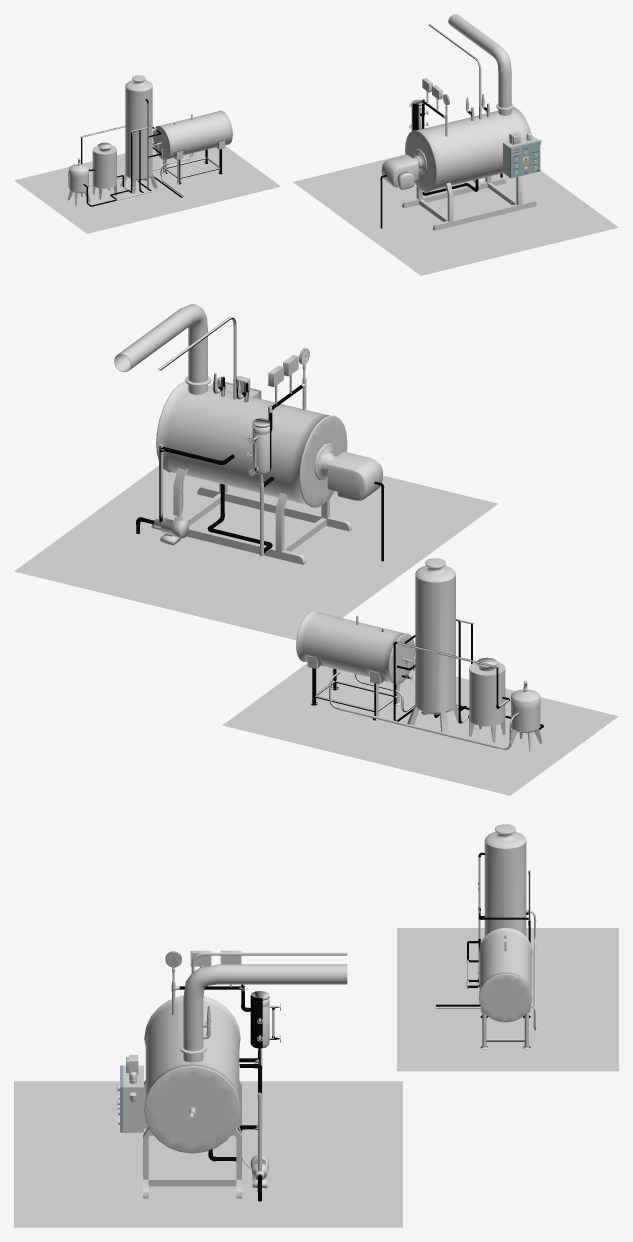
The model's file is FinalAhoraSiDeVerdad.fbx.
3 renders of one model, top to bottom at view 1: azimuth 30°, elevation 25°; view 2: azimuth 150°, elevation 25°; view 3: azimuth 270°, elevation 25°, orthographic. The views are drawn at different scales.
Visible parts, largest first — view 1: Plane001, Plane002, OilTank002, Object044, OilTank007, base01, Object002, Box015, Object012, OilTank009, Object048, Object059 (+3 smaller); view 2: Plane001, Plane002, OilTank002, Object044, OilTank007, base01, Object012, Object002, Box015, OilTank009, OilTank010, Object048 (+3 smaller); view 3: Plane001, Plane002, OilTank002, Object002, OilTank007, Object044, Object012, base01, Box003, Object054, Object048, Object053 (+1 smaller).
Boxes of the visible parts, x1,y1,x2,y2 form: Plane001: (293, 154, 618, 275); Plane002: (14, 146, 280, 233); OilTank002: (405, 107, 531, 191); Object044: (120, 75, 157, 193); OilTank007: (152, 110, 232, 160); base01: (402, 176, 536, 230); Object002: (448, 14, 513, 115); Box015: (381, 149, 426, 189); Object012: (380, 24, 502, 228); OilTank009: (92, 142, 116, 199); Object048: (80, 99, 182, 206); Object059: (509, 140, 540, 178); Plane001: (14, 465, 497, 640); Plane002: (222, 663, 618, 795); OilTank002: (156, 381, 347, 507); Object044: (407, 558, 463, 733); OilTank007: (296, 611, 415, 684); base01: (151, 468, 351, 564); Object012: (136, 316, 384, 561); Object002: (114, 304, 211, 394); Box015: (314, 443, 382, 500); OilTank009: (469, 657, 505, 742); OilTank010: (509, 680, 542, 751); Object048: (393, 618, 543, 729); Plane001: (14, 1081, 402, 1227); Plane002: (397, 928, 618, 1071); OilTank002: (144, 995, 240, 1153); Object002: (180, 964, 347, 1062); OilTank007: (478, 927, 532, 1022); Object044: (484, 824, 526, 936); Object012: (171, 952, 347, 1201); base01: (143, 1080, 241, 1198); Box003: (124, 1065, 143, 1132); Object054: (250, 991, 269, 1048); Object048: (436, 852, 530, 1006); Object053: (190, 950, 241, 966).
Bounding box in the file's own units: 154 × 52.96 × 131.
